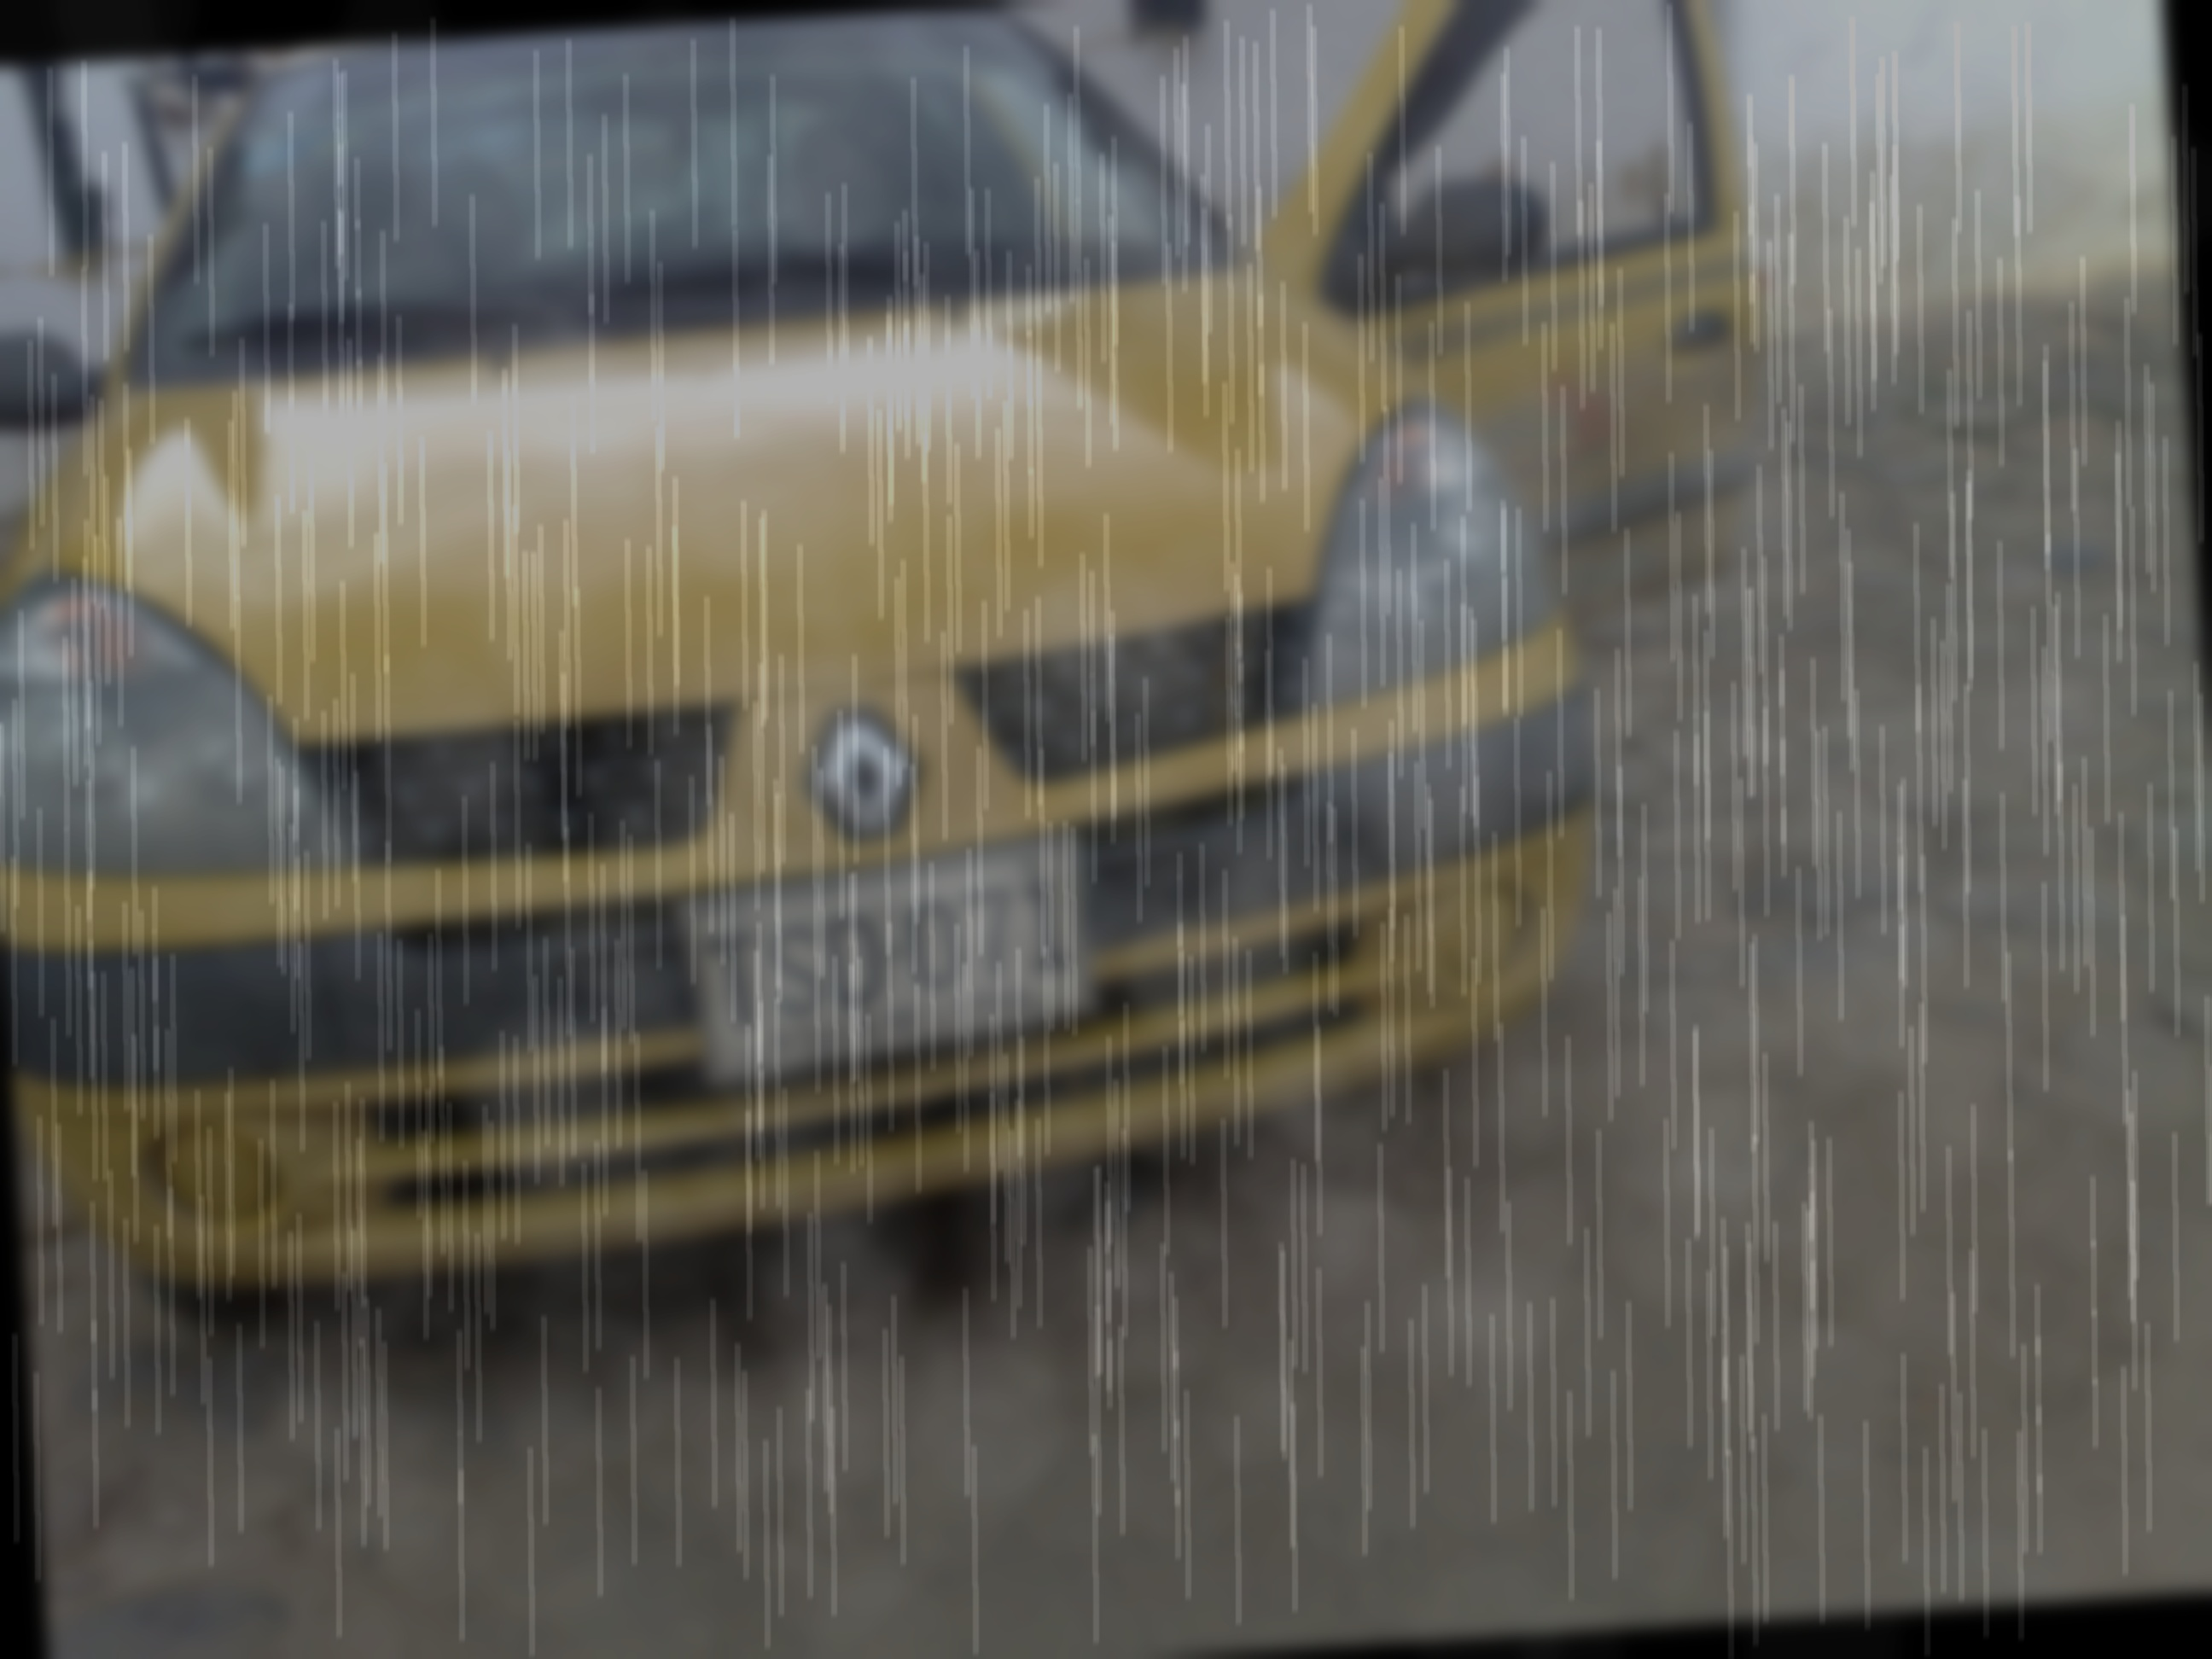placas: (667, 826, 1110, 1099)
